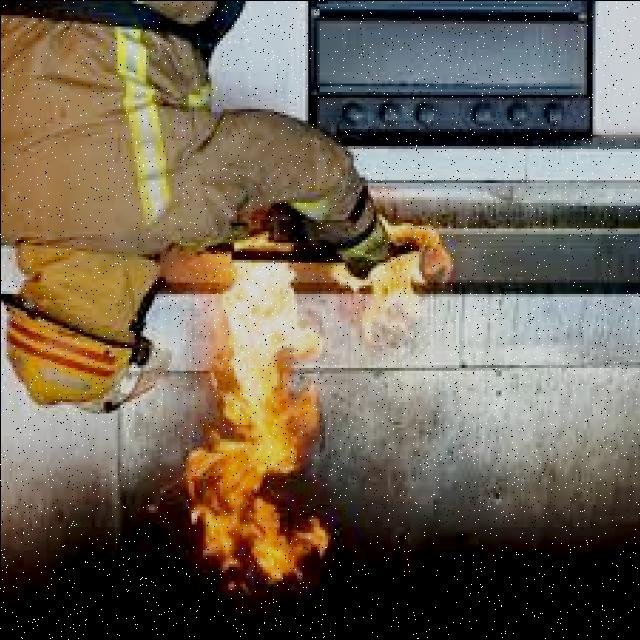api: (143, 252, 362, 596)
